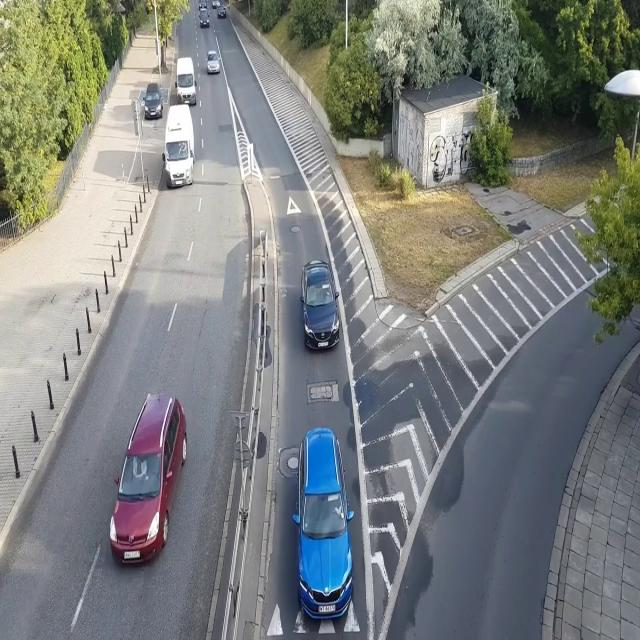car: (107, 392, 188, 566), (294, 428, 355, 623), (300, 259, 340, 353), (143, 83, 163, 119), (206, 51, 220, 75), (198, 8, 210, 28), (218, 5, 226, 19), (198, 0, 208, 11), (212, 0, 220, 9)
van: (162, 105, 195, 188), (175, 57, 197, 107)
